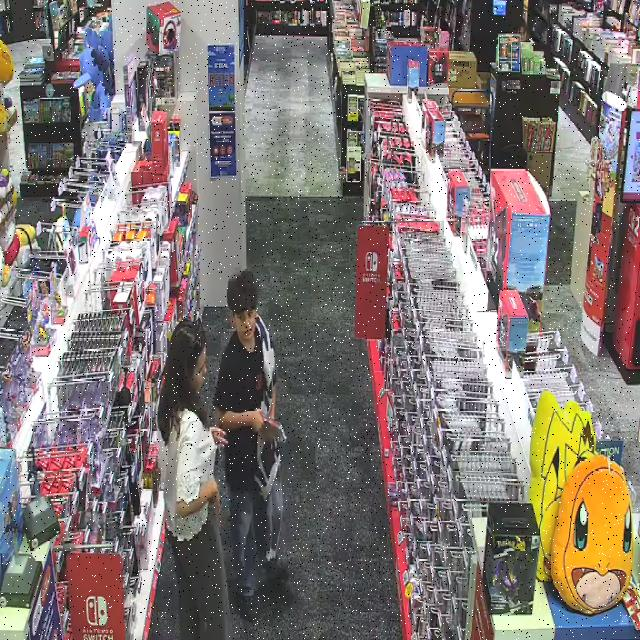article: (264, 417, 285, 442)
hands: (250, 407, 265, 435), (211, 428, 227, 450), (209, 479, 219, 512)
person: (214, 269, 288, 620), (158, 319, 231, 639)
